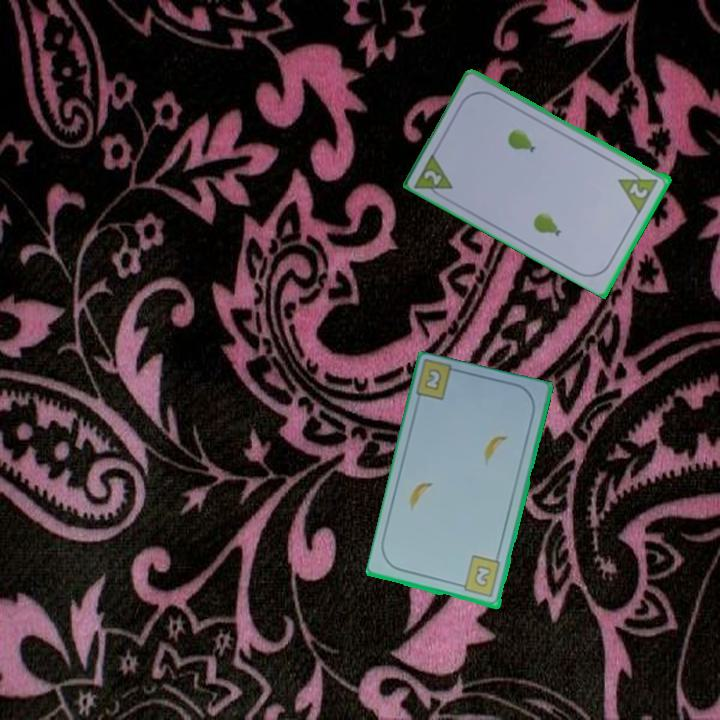2b: (455, 553, 504, 600), (421, 365, 445, 394)
2p: (615, 164, 662, 215), (420, 166, 445, 188)
